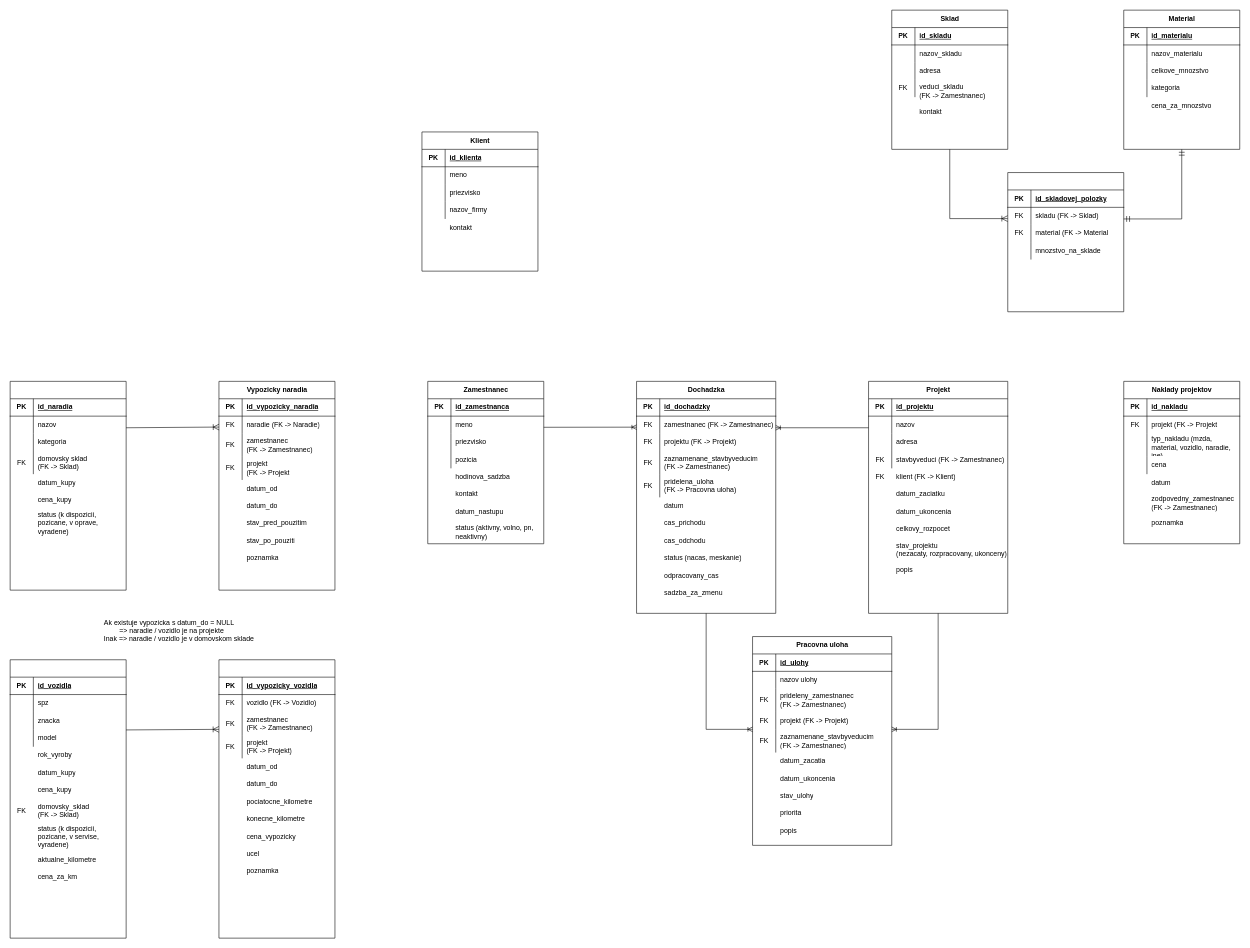
This 1250x948 diagram has some shape labels left out. The shapes that lost their labels are listed below. From the top down, each one's box as (x1, y1, x2, y2) in pixels, then its label:
(1007, 172, 1124, 312): Polozky na sklade
(10, 381, 126, 590): Naradie
(10, 659, 126, 938): Vozidlo
(218, 659, 335, 938): Vypozicky vozidiel
